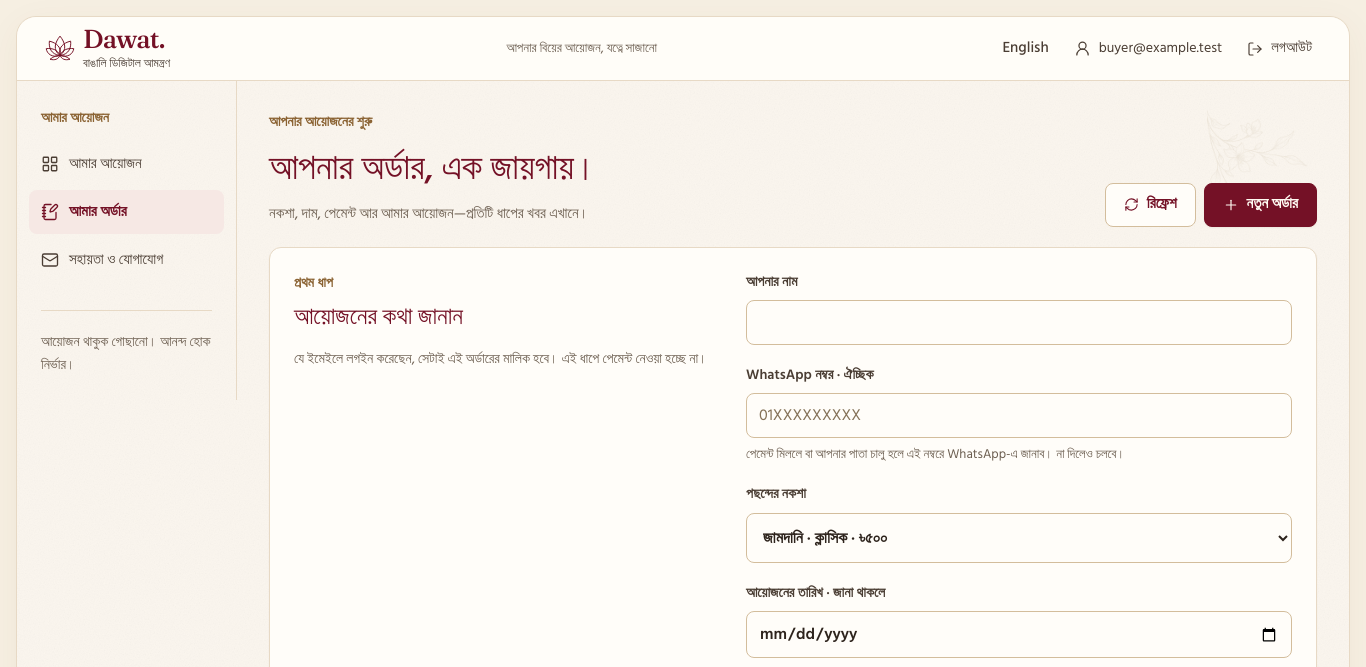
Scenario: clears the saved request draft only after the server accepts the request
Type "Draft buyer" into the field labelled "আপনার নাম" at (1019, 322), box [746,300,1292,345]
(page scrolled)
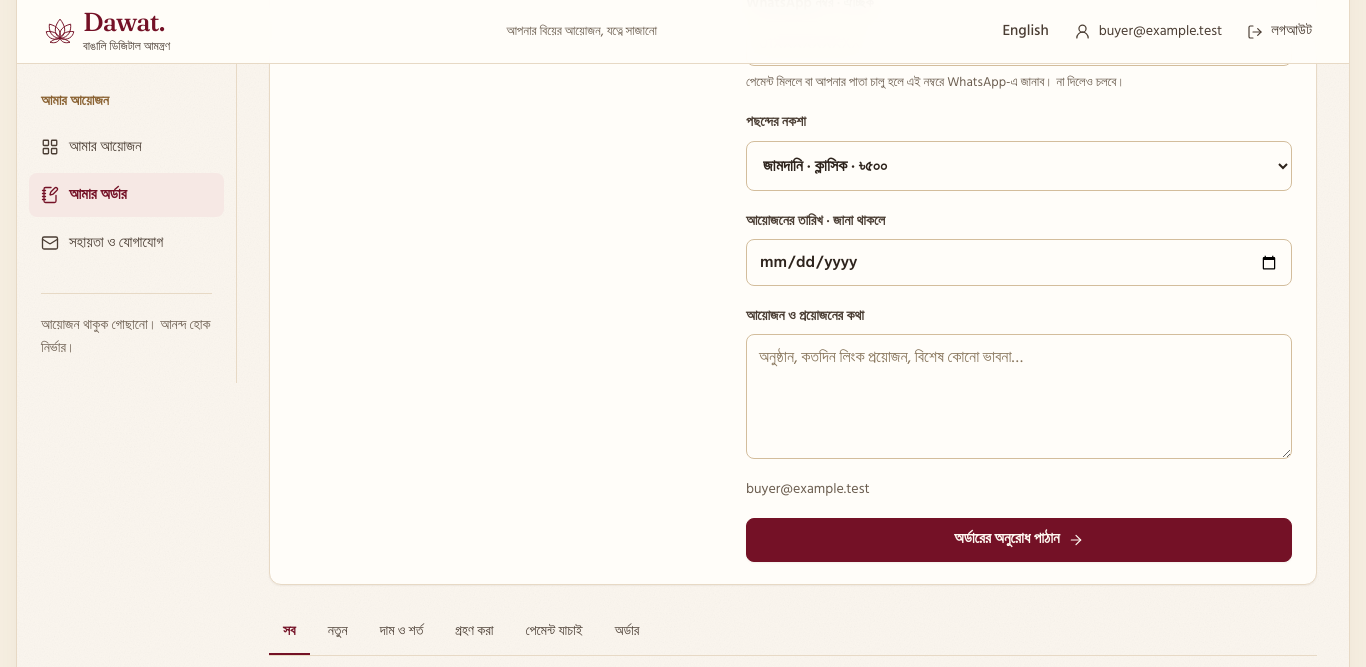
Type "A meaningful unfinished celebration." into the text box labelled "আয়োজন ও প্রয়োজনের কথা" at (1019, 396), box [746,334,1292,459]
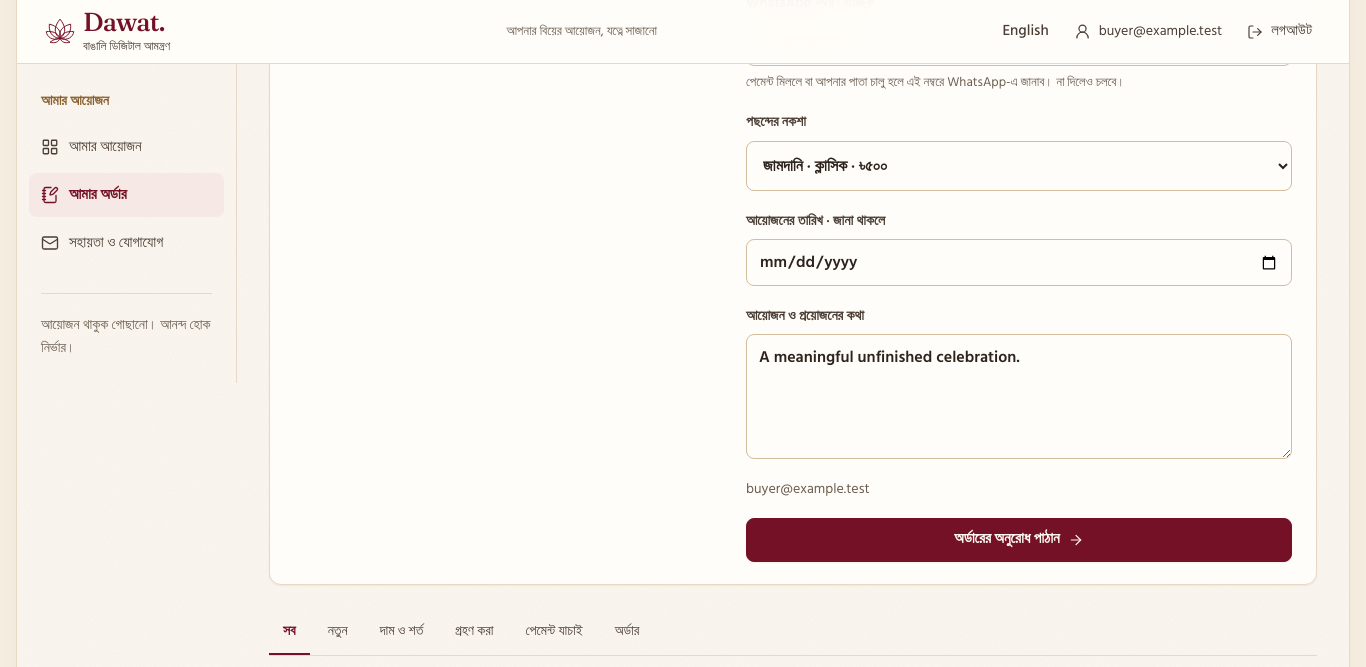
Click the button "অর্ডারের অনুরোধ পাঠান" at (1019, 540), box [746,518,1292,562]
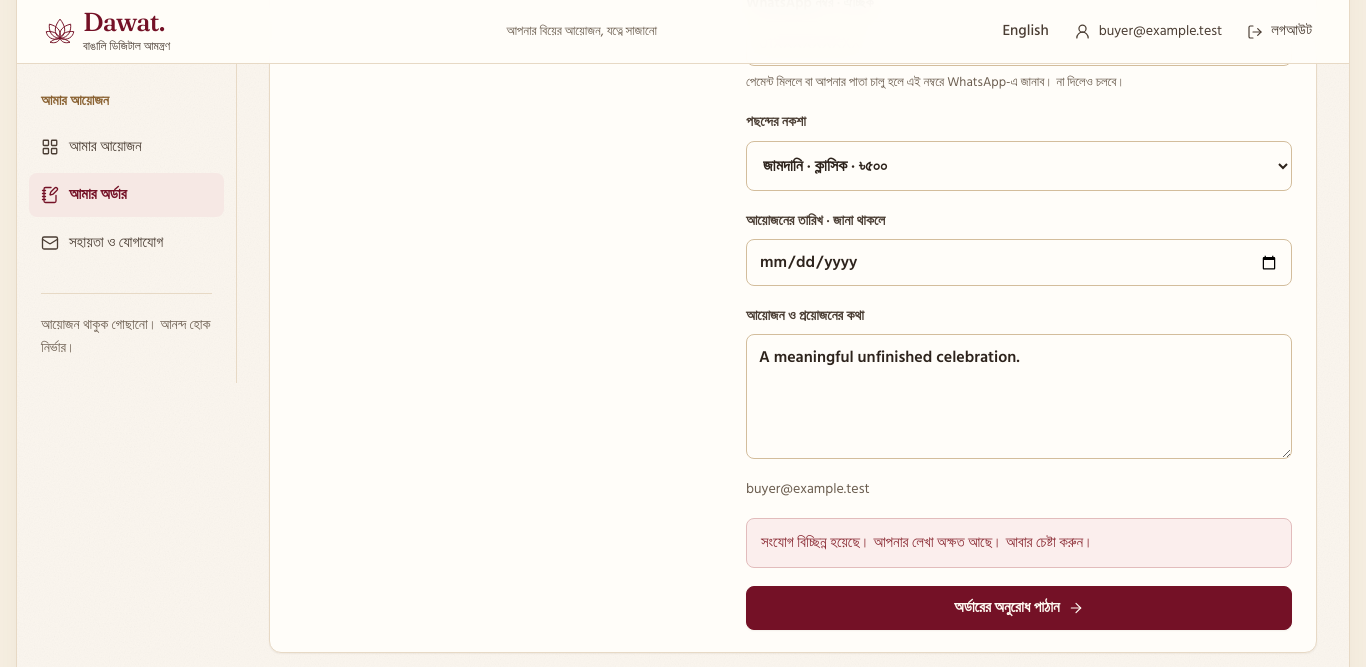
Result: the message "সংযোগ বিচ্ছিন্ন হয়েছে। আপনার লেখা অক্ষত আছে। আবার চেষ্টা করুন।" is shown at [746,518,1292,568]
Click the button "অর্ডারের অনুরোধ পাঠান" at (1019, 608), box [746,586,1292,630]
(page scrolled)
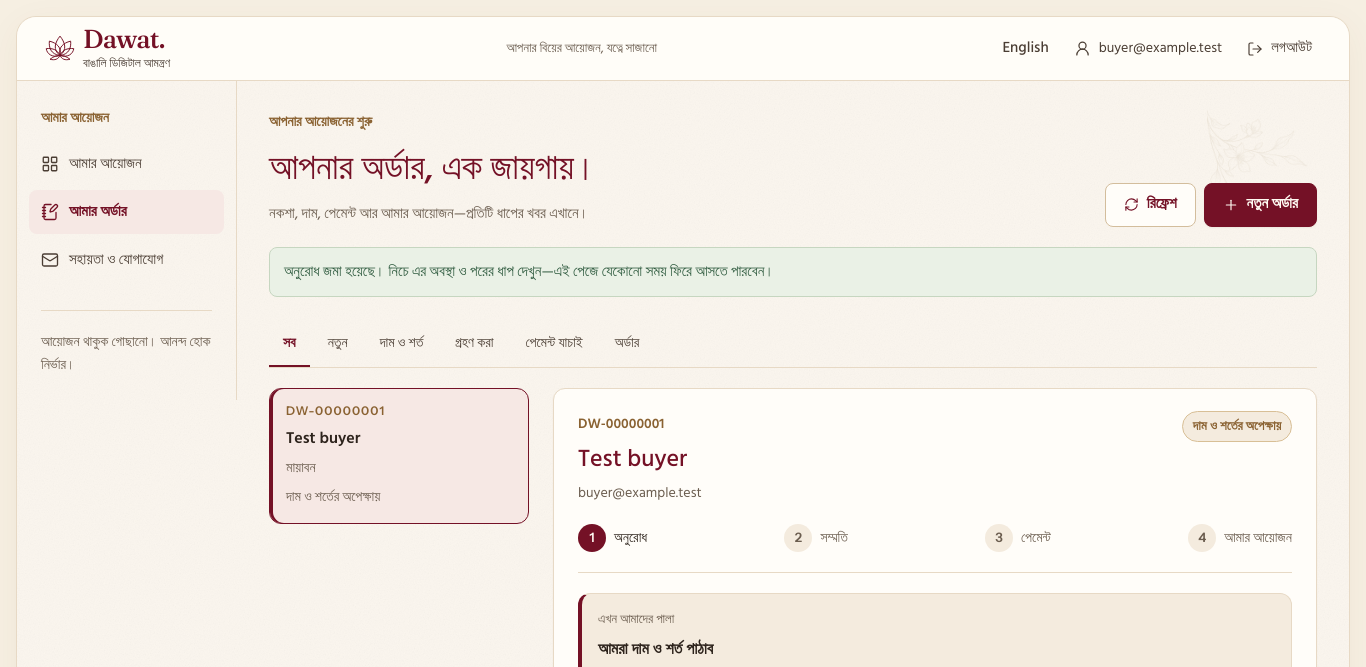
Result: the message is shown at [269,247,1317,297]
